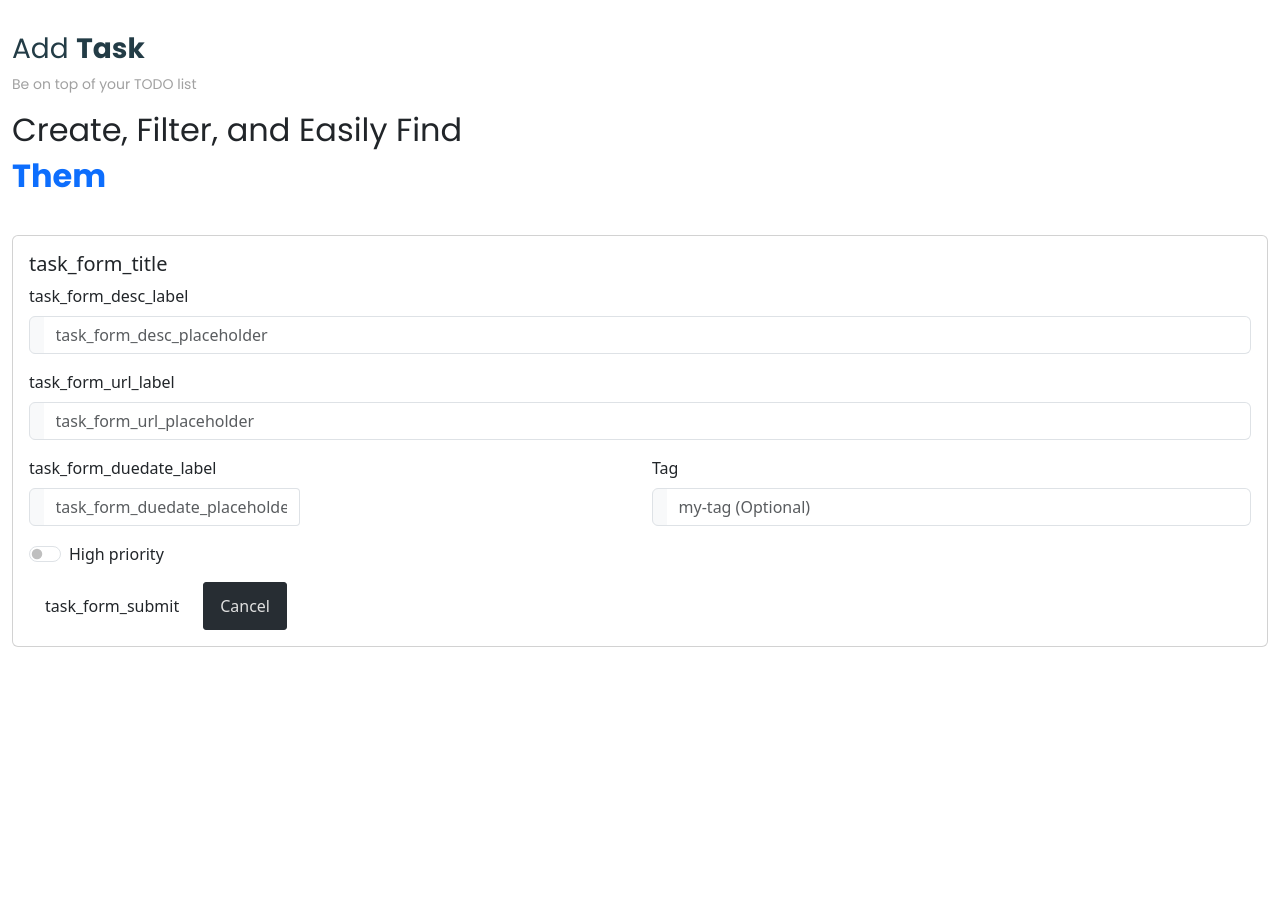
Scenario: TaskAdd Component › should show error message when form is invalid
Click the button "task_form_submit".
click(112, 606)  # box [29,582,195,630]
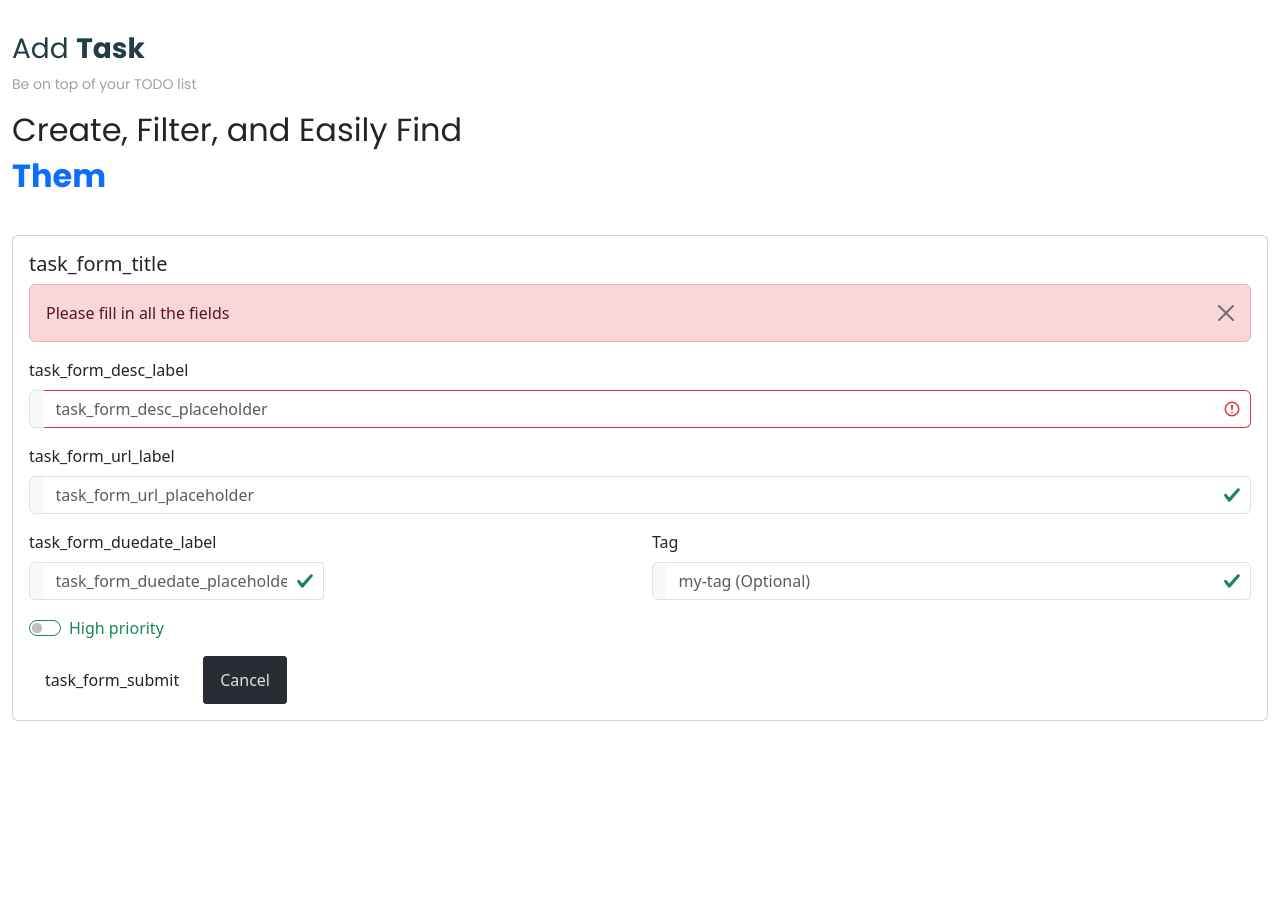
Check: the text "Please fill in all the fields" is shown, box [29,284,1251,342]
